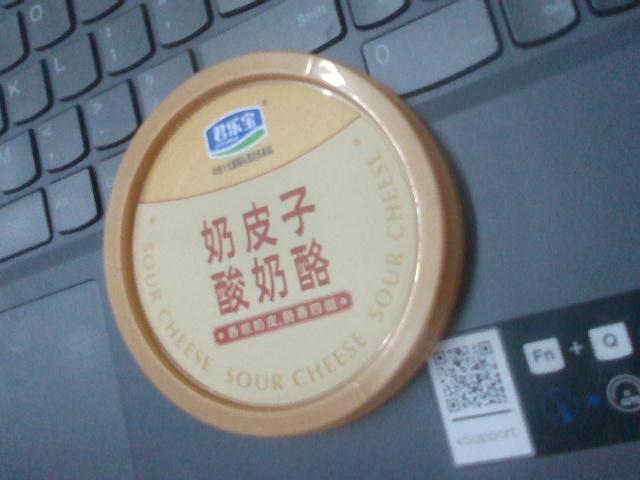keyboard: (1, 3, 613, 253)
lid: (98, 46, 473, 426)
